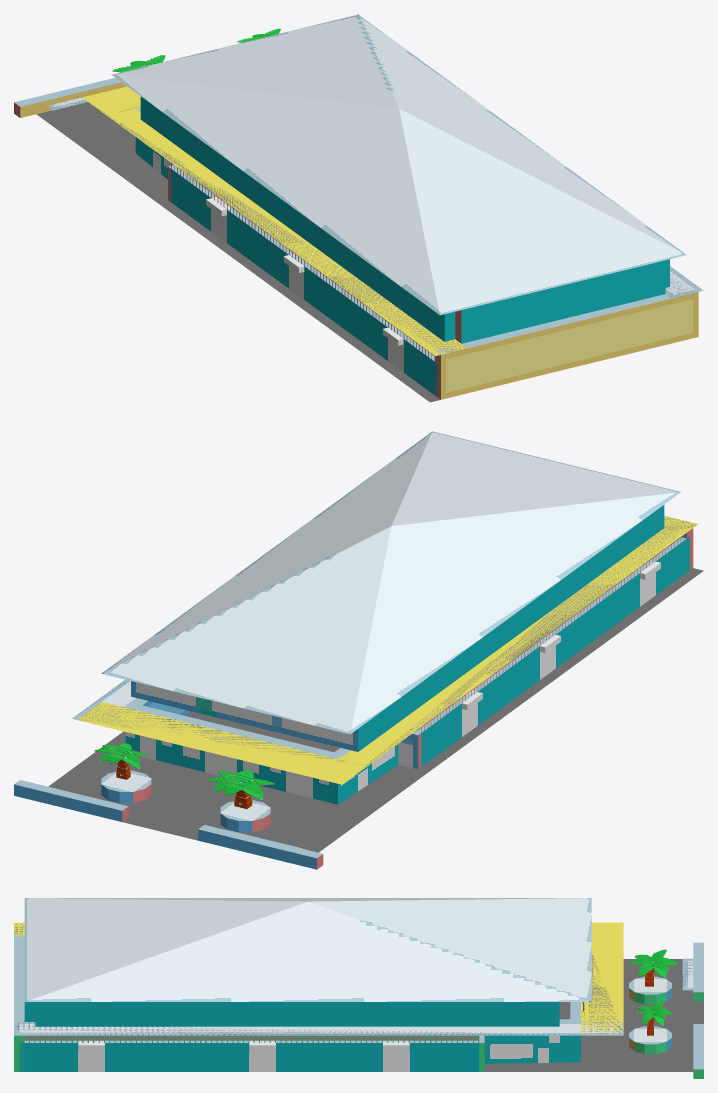
The model's file is Gym.gltf.
The picture shows the model from 3 angles, top to bottom: view 1: azimuth 30°, elevation 25°; view 2: azimuth 150°, elevation 25°; view 3: azimuth 270°, elevation 25°; orthographic projection. The views are drawn at different scales.
Visible parts, largest first — view 1: roof, cuboid (×8), cube (×3); view 2: roof, cube (×4), cuboid (×8), cylinder (×2), Object_28, Object_27; view 3: roof, cube (×3), cuboid (×9), cylinder (×2), Object_28, Object_27.
Part boxes in pixels (box(x1,y1,x2,y2)): roof: box(111, 14, 686, 315); cuboid (×8): box(14, 77, 703, 399); cube (×3): box(36, 102, 455, 402); roof: box(101, 431, 680, 734); cube (×4): box(48, 505, 703, 852); cuboid (×8): box(14, 516, 697, 869); cylinder (×2): box(101, 770, 270, 832); Object_28: box(207, 770, 274, 808); Object_27: box(94, 743, 148, 779); roof: box(24, 898, 591, 1001); cube (×3): box(19, 959, 703, 1071); cuboid (×9): box(14, 922, 703, 1078); cylinder (×2): box(629, 976, 671, 1053); Object_28: box(630, 949, 678, 986); Object_27: box(635, 1001, 672, 1035).
Size of the model in its own units: 3.5 by 1.5 by 8.06.
3 materials, 2 textured.
